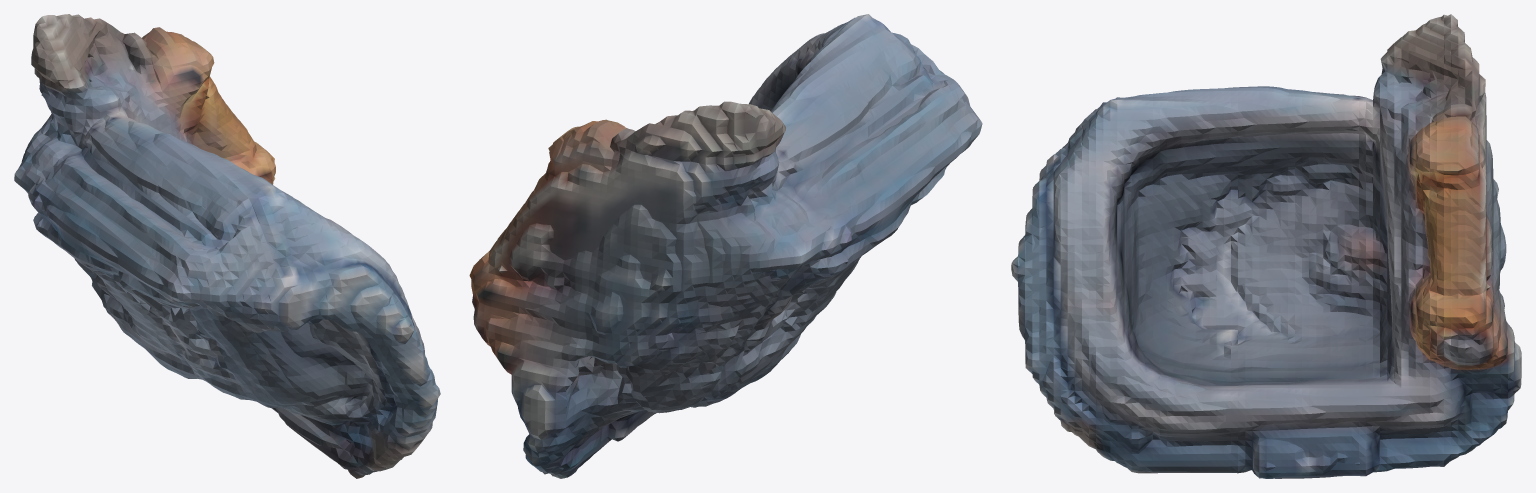
3 views of the same model, side by side, from view 1: azimuth 30°, elevation 25°; view 2: azimuth 150°, elevation 25°; view 3: azimuth 270°, elevation 25° (orthographic). The views are drawn at different scales.
Visible parts, largest first — view 1: world; view 2: world; view 3: world.
Part boxes in pixels (bbox=[...]): world: bbox=[14, 14, 440, 478]; world: bbox=[469, 14, 982, 478]; world: bbox=[1011, 14, 1521, 478].
Bounding box in the file's own units: 0.6262 × 0.8071 × 0.9849.
